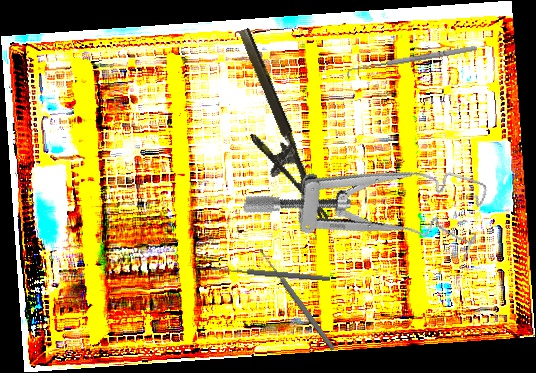Hook Surgical: (345, 43, 479, 80)
Needle Holder: (212, 26, 329, 235)
Speculum: (241, 117, 492, 281)
Surgical Spoon: (257, 247, 337, 352), (211, 264, 331, 283)
